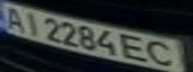2: (39, 15, 63, 43), (57, 19, 78, 48)
4: (97, 28, 118, 57)
8: (78, 24, 96, 52)
A: (0, 4, 30, 32)
C: (142, 38, 184, 69)
E: (118, 33, 151, 63)
I: (18, 9, 45, 37)
